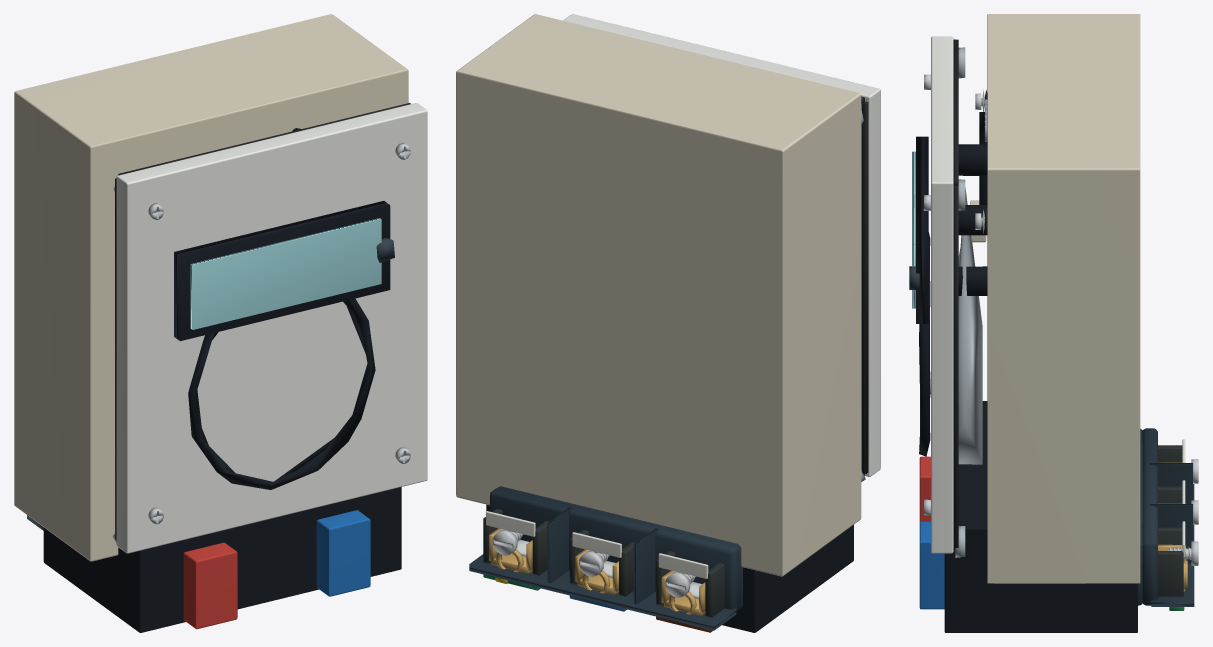
The model's file is source_default.low.glb.
3 renders of one model, left to right at view 1: azimuth 30°, elevation 25°; view 2: azimuth 150°, elevation 25°; view 3: azimuth 270°, elevation 25°, orthographic. The views are drawn at different scales.
Parts seen in each view (by area): view 1: part:cover, part:body, part:display, part:body.003, detail:enclosure-gasket-and-fixings · Detail rubber gasket, detail:enclosure-gasket-and-fixings · Detail zinc plated fix; view 2: part:body, part:terminals · Original a463fd81, part:cover, detail:enclosure-gasket-and-fixings · Detail rubber gasket, detail:terminal-clamp:L · Detail moulded engineering polymer, detail:terminal-clamp:PE · Detail moulded engineering polyme, detail:terminal-clamp:N · Detail moulded engineering polymer, detail:terminal-clamp:L · Detail machined brass, detail:terminal-clamp:PE · Detail machined brass, detail:terminal-clamp:N · Detail machined brass, Moulded terminal legend pad, Moulded terminal legend pad.002 (+4 smaller); view 3: part:body, part:cover, part:terminals · Original a463fd81, part:body.001, detail:enclosure-gasket-and-fixings · Detail rubber gasket, part:body.002 · Original 3ff2d46d, part:display, part:body.003, detail:terminal-clamp:PE · Detail moulded engineering polyme, part:mounting · Original 2a8198d3, detail:terminal-clamp:L · Detail moulded engineering polymer, detail:terminal-clamp:N · Detail moulded engineering polymer.
Boxes of the visible parts, left/top/right/bottom form: part:cover: left=116, top=103, right=427, bottom=553; part:body: left=14, top=14, right=408, bottom=632; part:display: left=174, top=201, right=390, bottom=341; part:body.003: left=183, top=510, right=370, bottom=629; detail:enclosure-gasket-and-fixings · Detail rubber gasket: left=115, top=103, right=410, bottom=539; detail:enclosure-gasket-and-fixings · Detail zinc plated fix: left=148, top=143, right=410, bottom=524; part:body: left=456, top=14, right=861, bottom=632; part:terminals · Original a463fd81: left=469, top=486, right=742, bottom=630; part:cover: left=563, top=14, right=880, bottom=476; detail:enclosure-gasket-and-fixings · Detail rubber gasket: left=861, top=96, right=868, bottom=475; detail:terminal-clamp:L · Detail moulded engineering polymer: left=656, top=551, right=724, bottom=617; detail:terminal-clamp:PE · Detail moulded engineering polyme: left=483, top=509, right=548, bottom=575; detail:terminal-clamp:N · Detail moulded engineering polymer: left=569, top=530, right=635, bottom=596; detail:terminal-clamp:L · Detail machined brass: left=661, top=570, right=705, bottom=615; detail:terminal-clamp:PE · Detail machined brass: left=489, top=528, right=532, bottom=573; detail:terminal-clamp:N · Detail machined brass: left=575, top=549, right=618, bottom=594; Moulded terminal legend pad: left=658, top=553, right=708, bottom=578; Moulded terminal legend pad.002: left=486, top=511, right=535, bottom=536; part:body: left=944, top=14, right=1140, bottom=632; part:cover: left=919, top=36, right=953, bottom=553; part:terminals · Original a463fd81: left=1138, top=428, right=1194, bottom=606; part:body.001: left=958, top=187, right=982, bottom=464; detail:enclosure-gasket-and-fixings · Detail rubber gasket: left=953, top=39, right=958, bottom=550; part:body.002 · Original 3ff2d46d: left=958, top=112, right=987, bottom=295; part:display: left=912, top=136, right=928, bottom=323; part:body.003: left=919, top=456, right=944, bottom=609; detail:terminal-clamp:PE · Detail moulded engineering polyme: left=1158, top=527, right=1184, bottom=596; part:mounting · Original 2a8198d3: left=955, top=47, right=965, bottom=557; detail:terminal-clamp:L · Detail moulded engineering polymer: left=1158, top=445, right=1182, bottom=462; detail:terminal-clamp:N · Detail moulded engineering polymer: left=1158, top=486, right=1182, bottom=503.
Size of the model in its own units: 0.77 by 1.1 by 0.6054.
